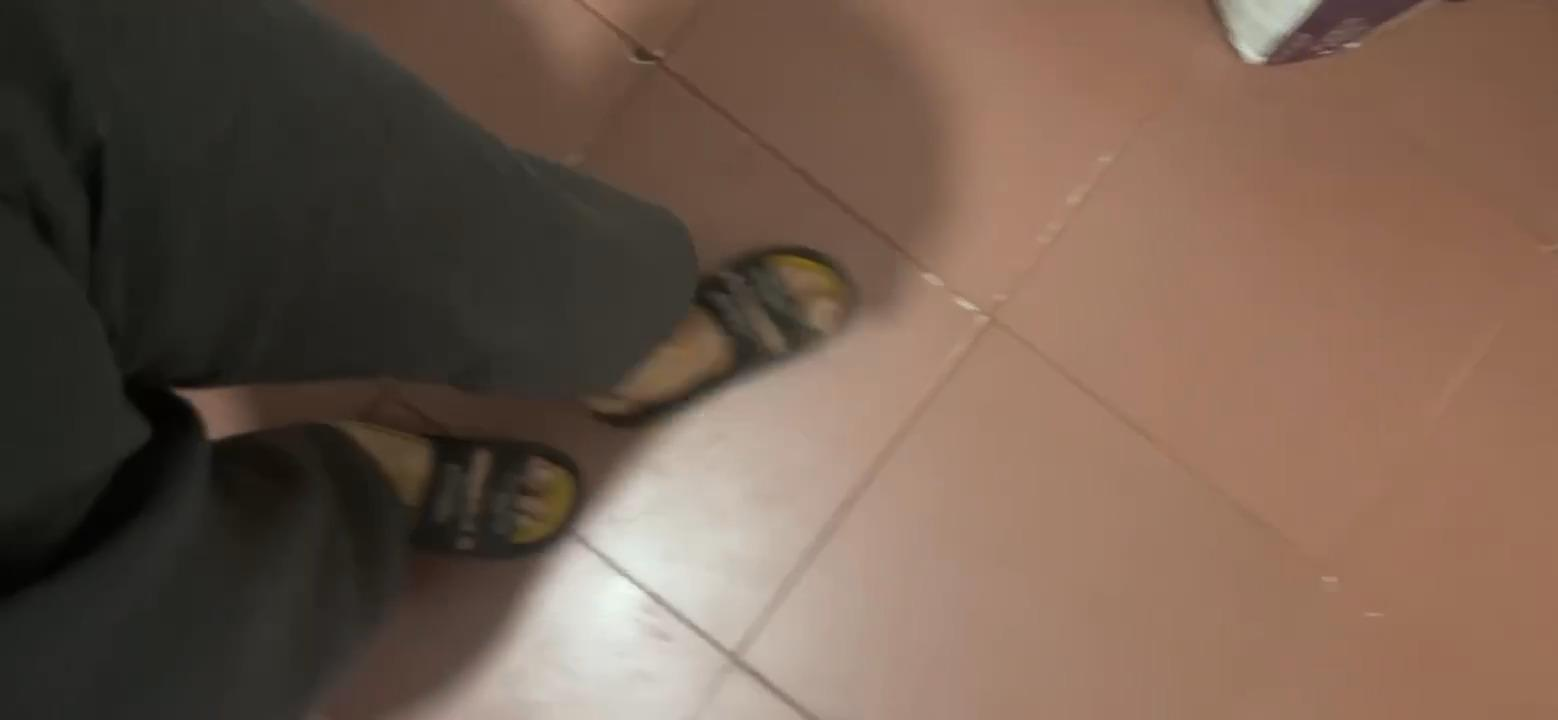no-boot: (601, 229, 857, 425), (333, 397, 596, 569)
